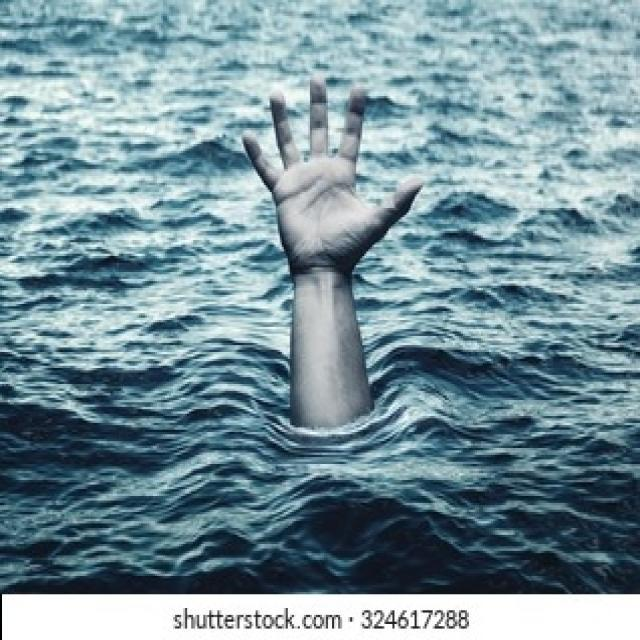Out of Water: (233, 66, 472, 536)
